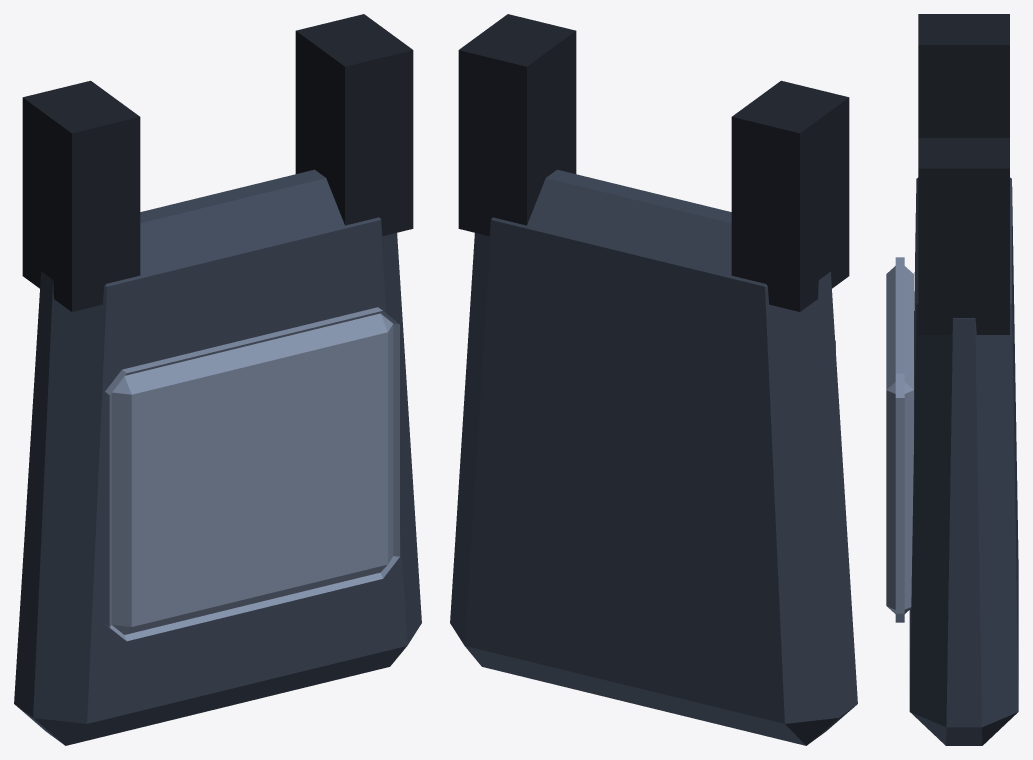
File: pk_armor.glb
The picture shows the model from 3 angles, left to right: view 1: azimuth 30°, elevation 25°; view 2: azimuth 150°, elevation 25°; view 3: azimuth 270°, elevation 25°; orthographic projection. The views are drawn at different scales.
Visible parts, largest first — view 1: plate; view 2: plate; view 3: plate.
Boxes of the visible parts, bbox=[...] form: plate: bbox=[14, 14, 421, 745]; plate: bbox=[450, 14, 857, 745]; plate: bbox=[886, 14, 1018, 745].
Size of the model in its own units: 0.4554 by 0.7 by 0.1444.
1 material, 1 textured.
